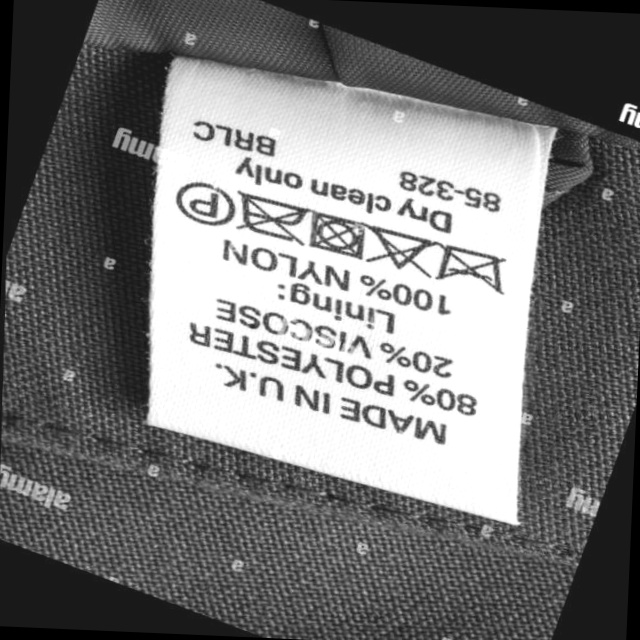DN_bleach: (367, 224, 431, 279)
DN_iron: (235, 190, 308, 247)
DN_tumble_dry: (308, 207, 366, 262)
DN_wash: (430, 240, 510, 297)
dry_clean_any_solvent_except_trichloroethylene: (171, 178, 238, 234)
